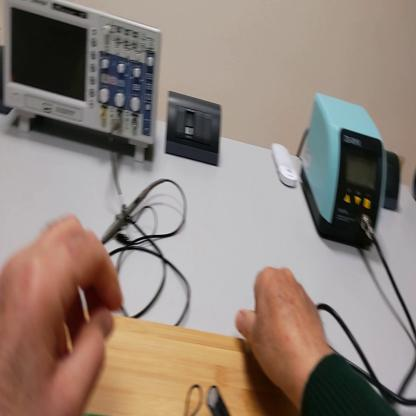hand: (2, 214, 124, 415), (238, 264, 329, 396)
high voltage board: (183, 378, 229, 411)
oscilloscope: (3, 2, 166, 164)
oscilloscope probe tip: (100, 178, 160, 247)
socket: (383, 145, 403, 214), (1, 47, 14, 114), (413, 167, 416, 201)
welder station: (302, 90, 388, 256)
working area: (59, 315, 296, 415)
